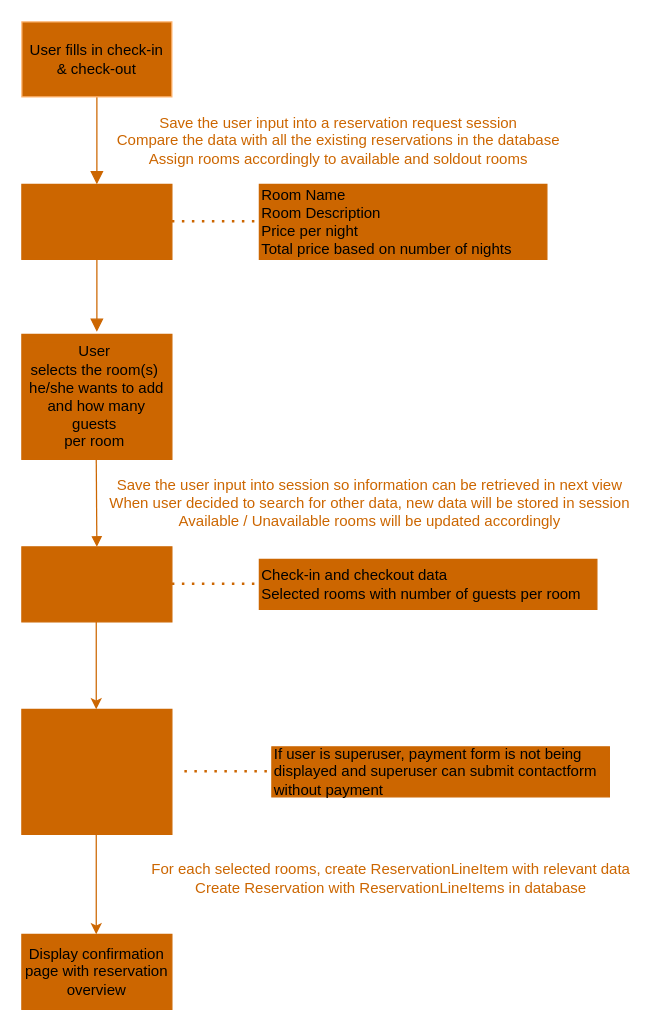
The diagram is 663 pixels wide and 1031 high, and some of its shapes have lost their labels. Each missing label, with the centre of its shape:
"Display reservation overview and form to complete reservation" goes at (x=96, y=584).
"Display the available and sold out rooms to the user" goes at (x=96, y=221).
"User fills in contact details and payment information and submits the form" goes at (x=96, y=771).
